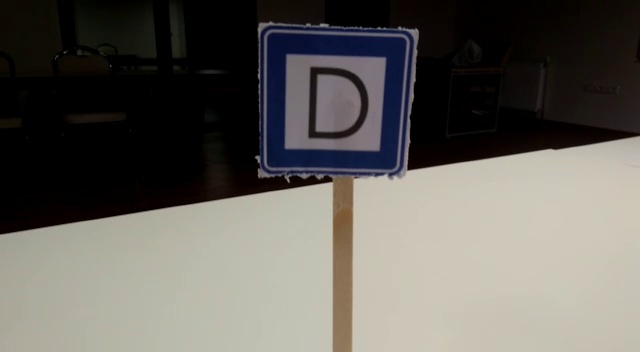durak: (262, 31, 410, 173)
